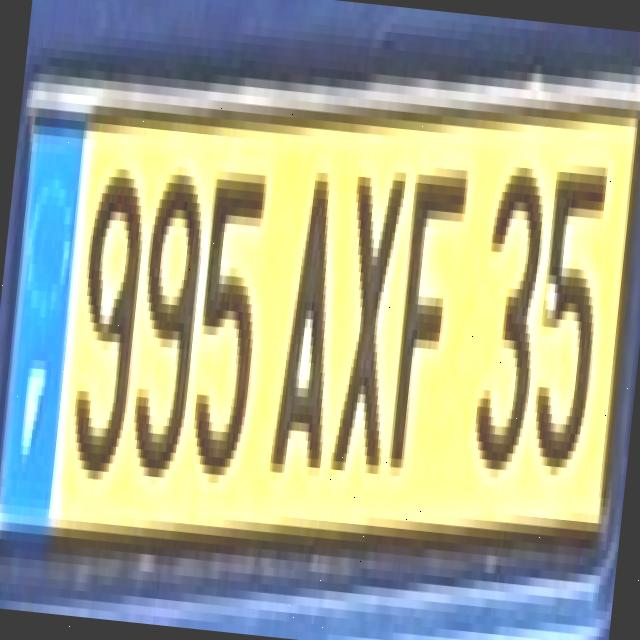EU: (0, 90, 640, 548)
France: (0, 116, 87, 538)
